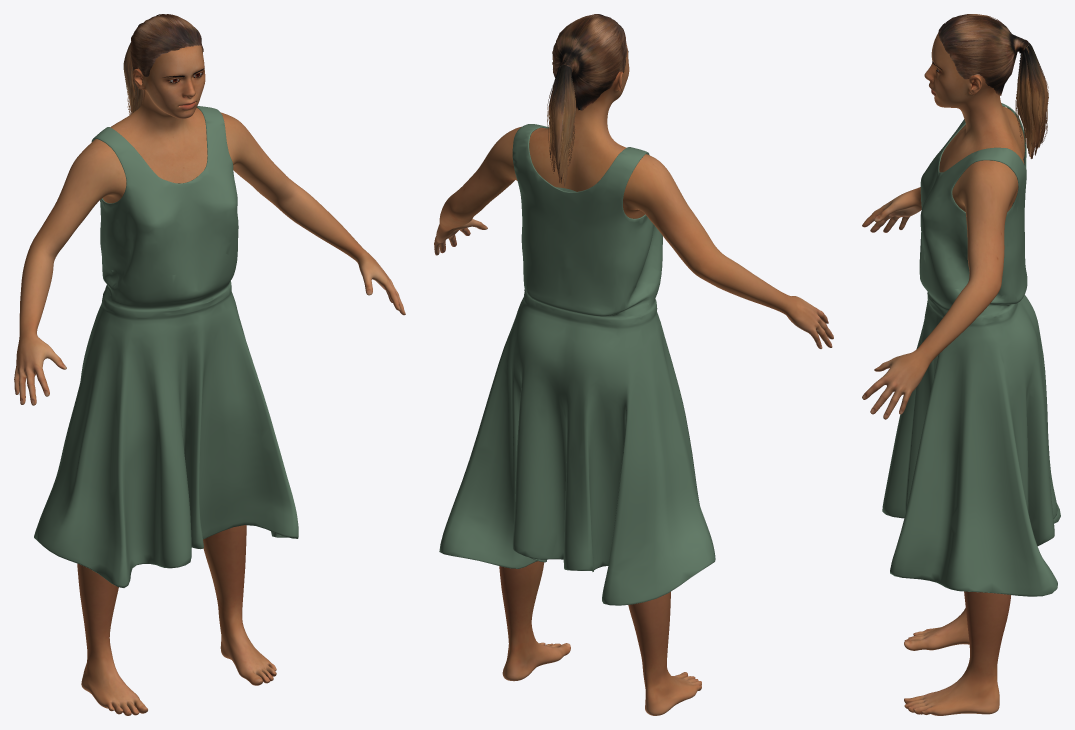
File: female-tan-dress.glb
3 renders of one model, left to right at view 1: azimuth 30°, elevation 25°; view 2: azimuth 150°, elevation 25°; view 3: azimuth 270°, elevation 25°, orthographic. The views are drawn at different scales.
Visible parts, largest first — view 1: Dress, Body, Hair; view 2: Dress, Body, Hair; view 3: Dress, Body, Hair.
Part boxes in pixels (x1,y1,x2,y2): Dress: (34,106,298,587); Body: (14,45,405,715); Hair: (123,14,203,114); Dress: (439,124,715,605); Body: (434,43,833,715); Hair: (547,14,627,186); Dress: (882,103,1060,596); Body: (862,33,1024,715); Hair: (938,14,1048,158).
Size of the model in its own units: 1.02 by 1.68 by 0.4565.
7 materials, 6 textured.
